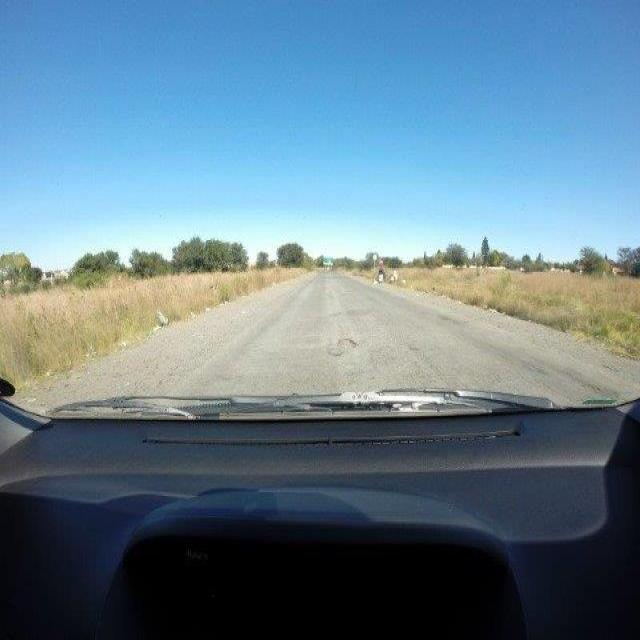lubang: (326, 335, 359, 356)
